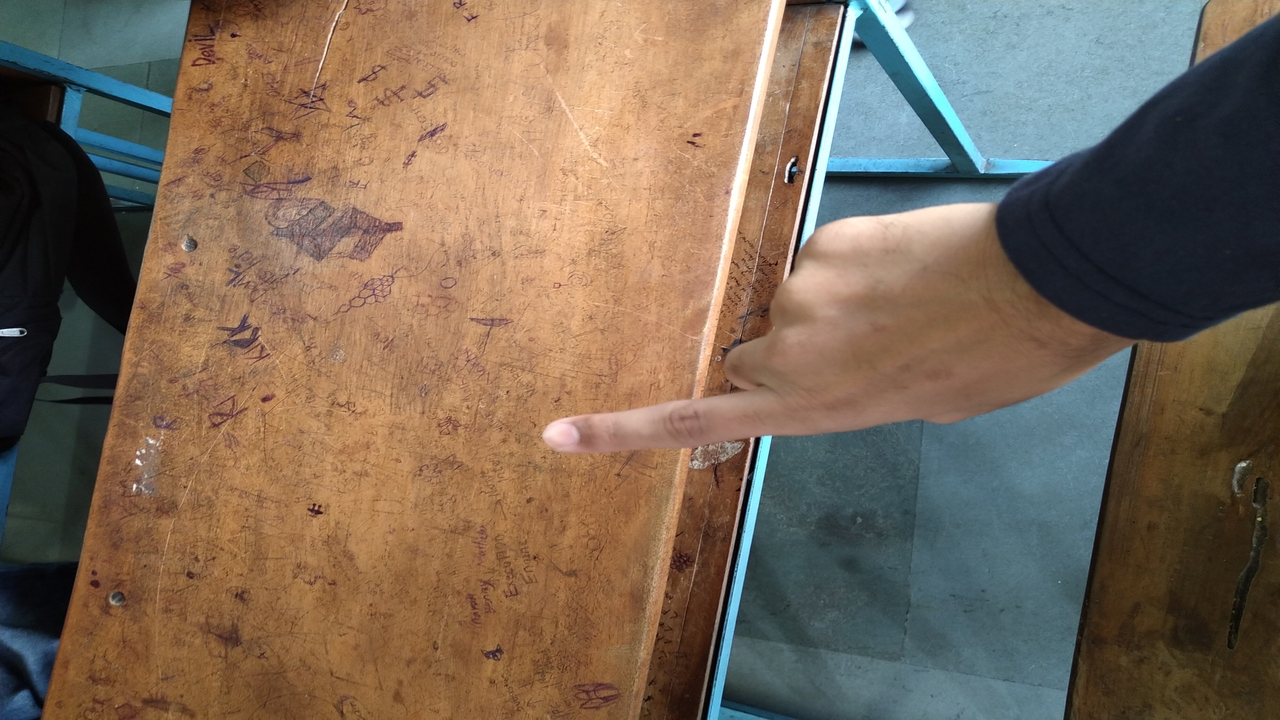fingertip: (531, 410, 591, 468)
